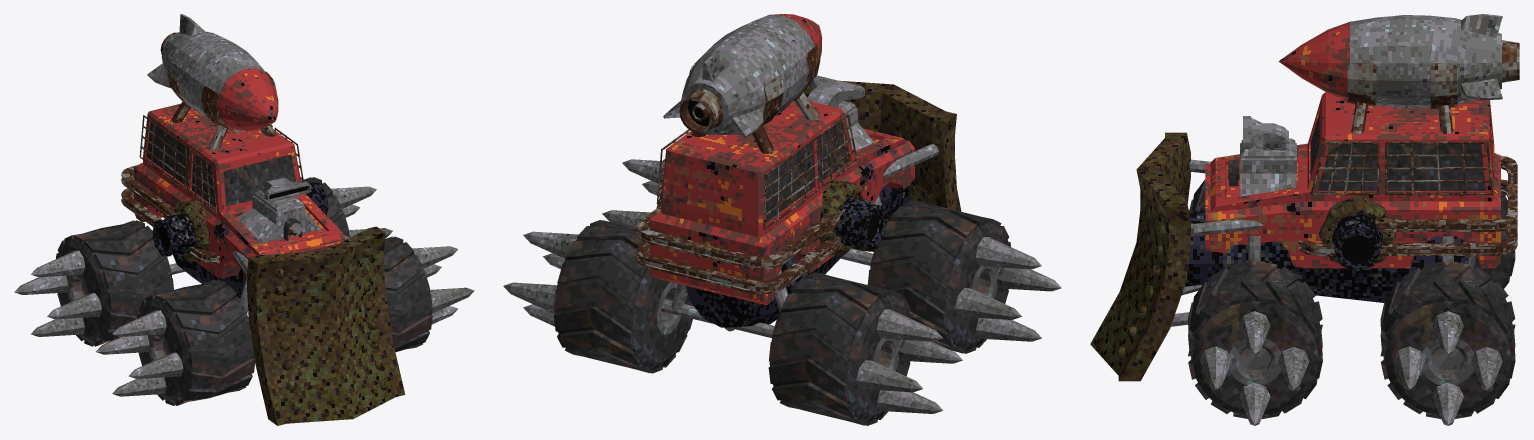
Rendered from player_truck_new_upgrades 1.fbx.
The picture shows the model from 3 angles, left to right: view 1: azimuth 30°, elevation 25°; view 2: azimuth 150°, elevation 25°; view 3: azimuth 270°, elevation 25°; orthographic projection. The views are drawn at different scales.
Visible parts, largest first — view 1: Plane, Cube, Cylinder, Cylinder.001, Cylinder.006, Cylinder.002, Cylinder.012, Cylinder.011, Cylinder.003, Cube.001, Cylinder.013, Cylinder.007 (+5 smaller); view 2: Cube, Cylinder.001, Cylinder.005, Cylinder, Cylinder.006, Plane, Cylinder.011, Cylinder.012, Cylinder.017, Cylinder.003, Plane.001, Plane.002 (+6 smaller); view 3: Cube, Cylinder.006, Cylinder.002, Cylinder.005, Plane, Cylinder.017, Cylinder.004, Cylinder.013, Cylinder.014, Cube.001, Cylinder.007, Plane.001 (+4 smaller).
Boxes of the visible parts, box(x1,y1,x2,y2) form: Plane: box(247, 226, 405, 425); Cube: box(134, 103, 345, 279); Cylinder: box(137, 280, 255, 405); Cylinder.001: box(56, 220, 173, 346); Cylinder.006: box(147, 14, 278, 130); Cylinder.002: box(384, 236, 432, 352); Cylinder.012: box(96, 310, 183, 396); Cylinder.011: box(14, 250, 101, 336); Cylinder.003: box(152, 200, 210, 261); Cube.001: box(139, 115, 303, 213); Cylinder.013: box(412, 246, 474, 324); Cylinder.007: box(167, 61, 277, 150); Cube: box(649, 75, 914, 305); Cylinder.001: box(768, 272, 912, 425); Cylinder.005: box(553, 220, 693, 373); Cylinder: box(867, 200, 1010, 353); Cylinder.006: box(663, 14, 822, 137); Plane: box(804, 80, 961, 251); Cylinder.011: box(856, 309, 962, 413); Cylinder.012: box(955, 237, 1061, 341); Cylinder.017: box(686, 184, 910, 327); Cylinder.003: box(819, 180, 887, 255); Plane.001: box(636, 195, 858, 269); Plane.002: box(636, 236, 843, 294); Cube: box(1205, 92, 1500, 268); Cylinder.006: box(1279, 14, 1519, 107); Cylinder.002: box(1188, 261, 1322, 419); Cylinder.005: box(1380, 261, 1515, 418); Plane: box(1090, 132, 1190, 381); Cylinder.017: box(1184, 210, 1470, 302); Cylinder.004: box(1319, 195, 1396, 271); Cylinder.013: box(1200, 311, 1309, 425); Cylinder.014: box(1393, 311, 1502, 425); Cube.001: box(1310, 141, 1493, 195); Cylinder.007: box(1347, 63, 1457, 133); Plane.001: box(1334, 155, 1517, 231).
Bounding box in the file's own units: 738 × 578 × 669.
